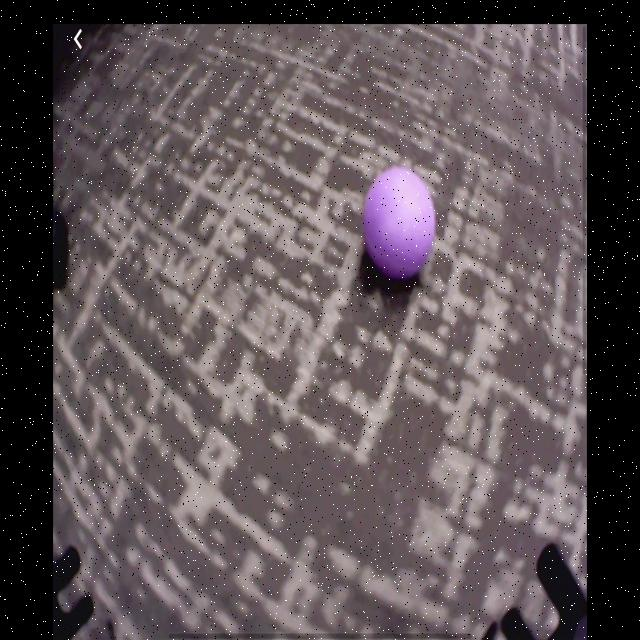ball: (367, 167, 437, 281)
